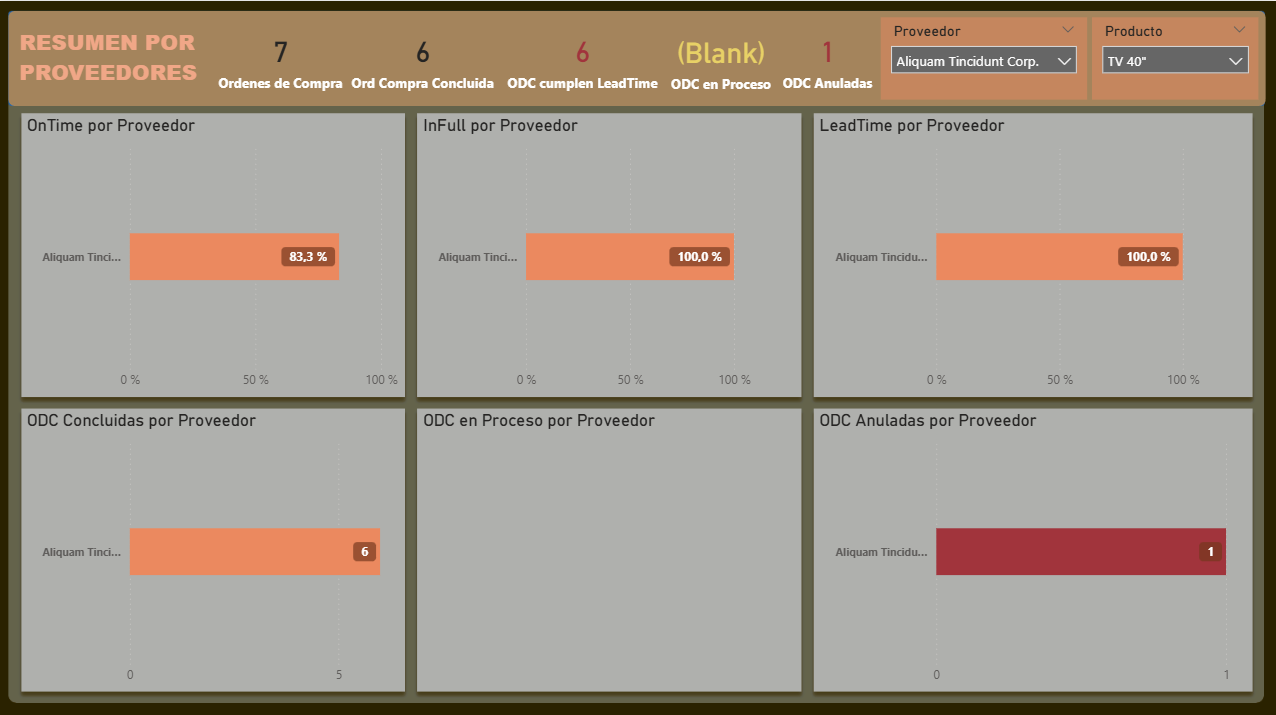

The page's visual inventory and layout, read from the dashboard file:
{"tool":"powerbi","page":{"name":"Resumen Proveedores","canvas":[1280,720],"ordinal":1},"visuals":[{"type":"shape","box":[11.2,10,1257.5,95],"z":0},{"type":"card","fields":{"Values":["ORDENES.Ordenes de Compra"]},"box":[199.1,10.9,170.1,94.1],"z":1000},{"type":"card","fields":{"Values":["ORDENES.Odc cumplen LeadTime"]},"box":[488.6,10.9,194.2,94.1],"z":2000},{"type":"card","fields":{"Values":["ORDENES.ODC en Proceso"]},"box":[653.9,10.9,141.2,95.3],"z":3000},{"type":"card","fields":{"Values":["ORDENES.ODC Anuladas"]},"box":[763.7,10.9,133.9,94.1],"z":4000},{"type":"card","fields":{"Values":["ORDENES.Ord Compra Concluida"]},"box":[330.6,10.9,191.8,94.1],"z":5000},{"type":"slicer","fields":{"Values":["PRODUCTOS.producto"]},"box":[1095.4,15.7,166.5,82],"z":6000},{"type":"slicer","fields":{"Values":["PROVEEDORES.Proveedor"]},"box":[884.3,15.7,206.3,82],"z":7000},{"type":"clusteredBarChart","title":"OnTime por Proveedor","fields":{"Category":["PROVEEDORES.Proveedor"],"Y":["ORDENES.OnTime"]},"box":[25.2,113.5,381.4,283.7],"z":8000},{"type":"clusteredBarChart","title":"InFull por Proveedor","fields":{"Category":["PROVEEDORES.Proveedor"],"Y":["ORDENES.InFull"]},"box":[420.8,113.5,381.4,283.7],"z":9000},{"type":"clusteredBarChart","title":"LeadTime por Proveedor","fields":{"Category":["PROVEEDORES.Proveedor"],"Y":["ORDENES.LeadTime"]},"box":[817.9,113.5,435,283.7],"z":10000},{"type":"clusteredBarChart","title":"ODC Concluidas por Proveedor","fields":{"Category":["PROVEEDORES.Proveedor"],"Y":["ORDENES.Ord Compra Concluida"]},"box":[25.2,408.2,381.4,283.7],"z":11000},{"type":"clusteredBarChart","title":"ODC en Proceso por Proveedor","fields":{"Category":["PROVEEDORES.Proveedor"],"Y":["ORDENES.ODC en Proceso"]},"box":[420.8,408.2,381.4,283.7],"z":12000},{"type":"clusteredBarChart","title":"ODC Anuladas por Proveedor","fields":{"Category":["PROVEEDORES.Proveedor"],"Y":["ORDENES.ODC Anuladas"]},"box":[817.9,408.2,435,283.7],"z":13000},{"type":"textbox","box":[16.9,21.7,196.6,71.2],"z":14000}]}

Visuals, with their boxes in screenshot pixels (x1, y1, x2, y2), scaled from the page's 1280x720 canvas onto the 1276x715 screenshot:
shape: <bbox>11, 10, 1265, 104</bbox>
card - ORDENES.Ordenes de Compra: <bbox>198, 11, 368, 104</bbox>
card - ORDENES.Odc cumplen LeadTime: <bbox>487, 11, 681, 104</bbox>
card - ORDENES.ODC en Proceso: <bbox>652, 11, 793, 105</bbox>
card - ORDENES.ODC Anuladas: <bbox>761, 11, 895, 104</bbox>
card - ORDENES.Ord Compra Concluida: <bbox>330, 11, 521, 104</bbox>
slicer - PRODUCTOS.producto: <bbox>1092, 16, 1258, 97</bbox>
slicer - PROVEEDORES.Proveedor: <bbox>882, 16, 1087, 97</bbox>
"OnTime por Proveedor" clusteredBarChart: <bbox>25, 113, 405, 394</bbox>
"InFull por Proveedor" clusteredBarChart: <bbox>419, 113, 800, 394</bbox>
"LeadTime por Proveedor" clusteredBarChart: <bbox>815, 113, 1249, 394</bbox>
"ODC Concluidas por Proveedor" clusteredBarChart: <bbox>25, 405, 405, 687</bbox>
"ODC en Proceso por Proveedor" clusteredBarChart: <bbox>419, 405, 800, 687</bbox>
"ODC Anuladas por Proveedor" clusteredBarChart: <bbox>815, 405, 1249, 687</bbox>
textbox: <bbox>17, 22, 213, 92</bbox>
